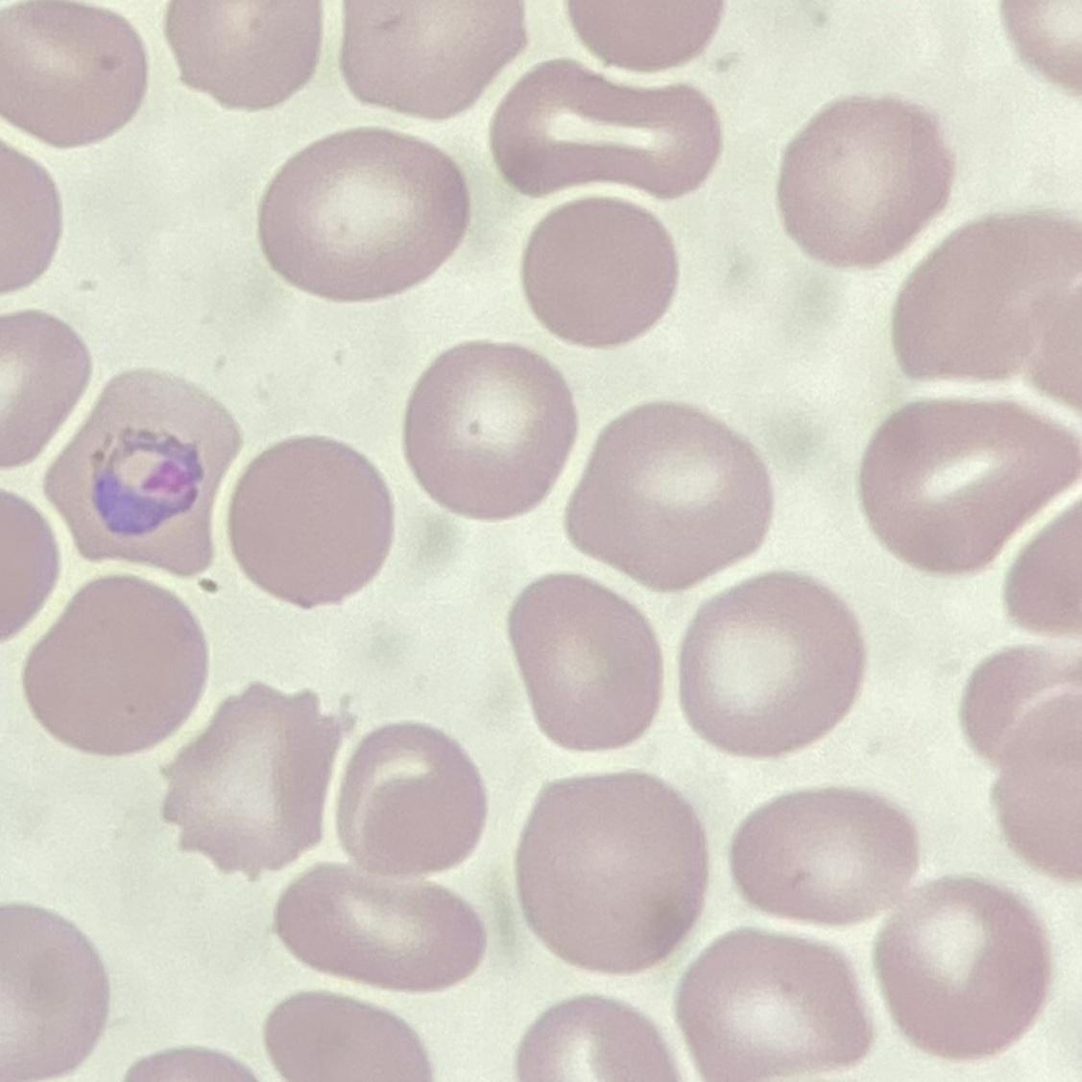Infected: (42, 372, 234, 576)
Uninfected: (515, 769, 718, 970), (557, 404, 771, 584), (867, 395, 1074, 576), (256, 132, 468, 302), (870, 878, 1051, 1067), (163, 676, 342, 866), (22, 571, 204, 753), (486, 65, 716, 208), (682, 577, 859, 761), (509, 571, 669, 766), (272, 852, 496, 990), (890, 212, 1074, 379), (774, 97, 946, 268), (406, 337, 566, 520), (230, 436, 396, 612), (678, 926, 859, 1082), (730, 788, 914, 924), (336, 712, 483, 874), (522, 193, 673, 349), (339, 0, 534, 117), (0, 0, 153, 149)
